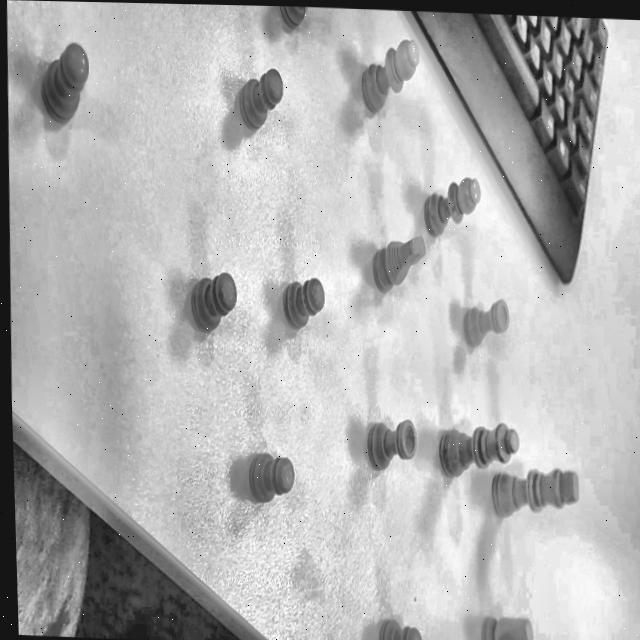white-bishop: (359, 35, 420, 117), (422, 175, 481, 239)
white-king: (489, 465, 579, 520)
white-knight: (369, 233, 426, 295), (480, 615, 534, 640)
white-pawn: (180, 254, 242, 338), (38, 40, 91, 124), (237, 65, 284, 131), (246, 451, 295, 505), (281, 276, 326, 332), (377, 619, 422, 640)
white-queen: (438, 423, 519, 478)
white-rook: (365, 418, 418, 472), (460, 298, 509, 349)
